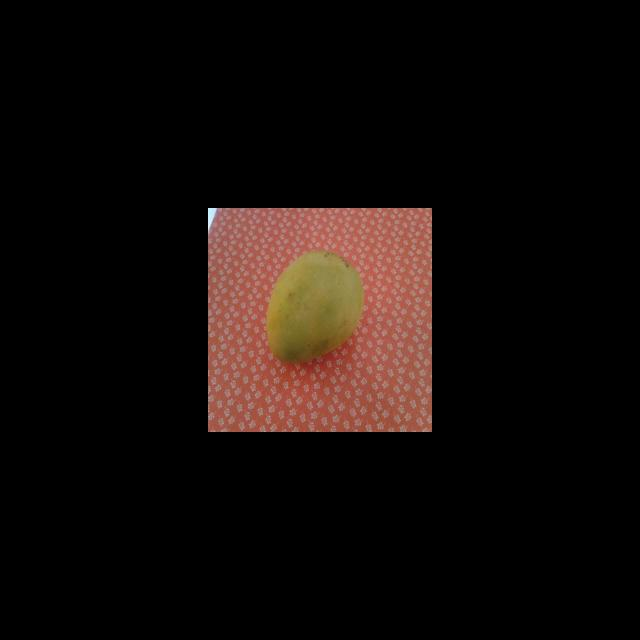Mango: (208, 208, 431, 431), (265, 248, 364, 363)
